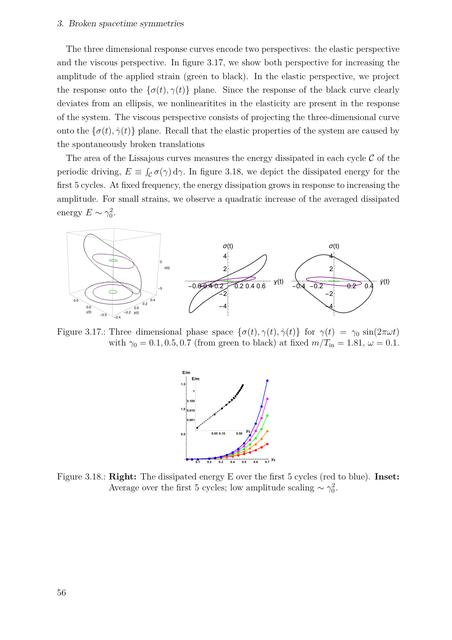box: (54, 225, 401, 349), (179, 367, 282, 469)
